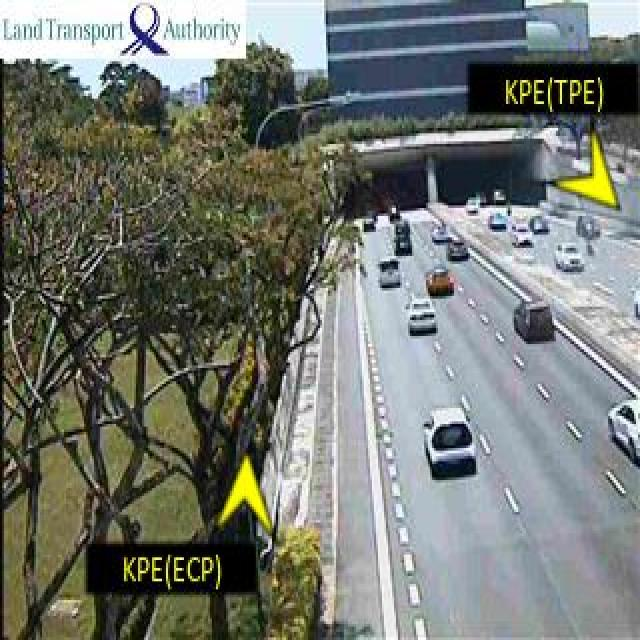vehicles: (426, 412, 483, 479), (604, 397, 640, 459), (514, 305, 556, 343), (411, 298, 436, 334), (426, 265, 455, 294), (558, 246, 586, 276), (378, 258, 404, 289), (511, 226, 538, 254), (577, 209, 602, 239), (392, 225, 415, 253), (447, 236, 471, 260), (487, 207, 509, 228), (532, 215, 554, 235), (463, 194, 483, 214)
